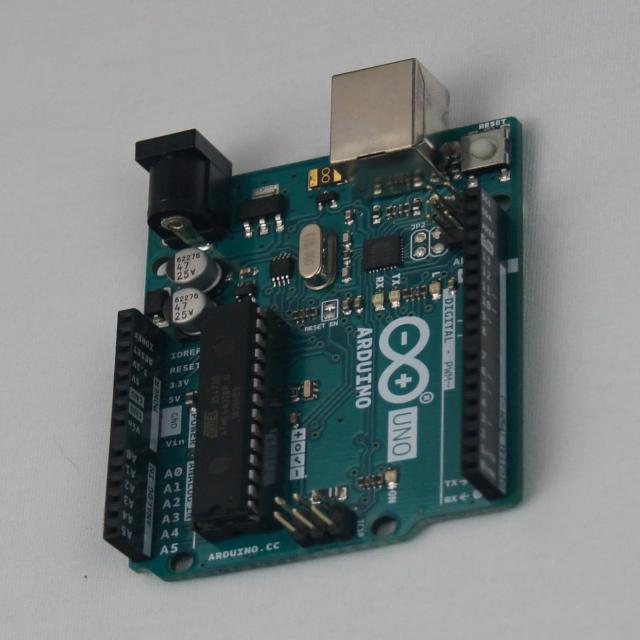Arduino Uno -Green-: (105, 59, 522, 581)
